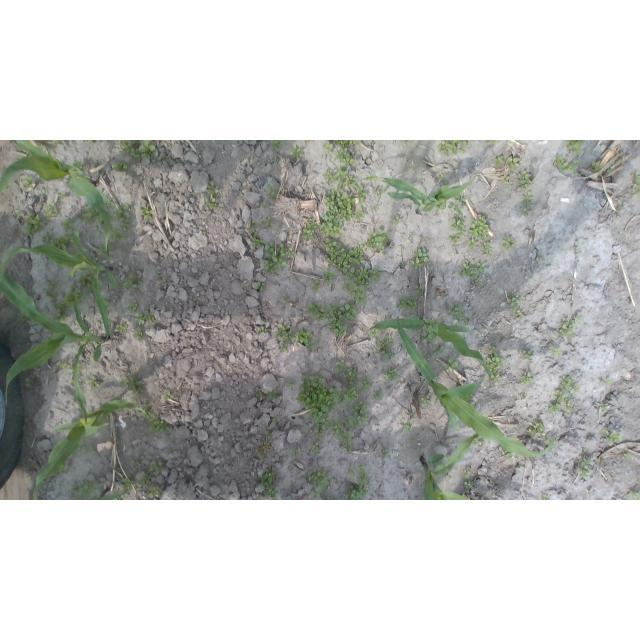Maize: (396, 316, 557, 458), (1, 273, 110, 430), (0, 230, 116, 362), (0, 141, 114, 252), (34, 400, 150, 501), (368, 315, 492, 386), (351, 175, 478, 214), (420, 434, 479, 500), (90, 488, 121, 501)
Weeds: (294, 372, 340, 420), (307, 300, 358, 337), (320, 236, 364, 277), (320, 188, 356, 237), (324, 166, 368, 204), (262, 239, 297, 273), (344, 464, 371, 500), (115, 140, 156, 162), (41, 232, 81, 254), (446, 196, 466, 236), (484, 345, 504, 383), (331, 421, 356, 451), (458, 259, 486, 285), (343, 276, 368, 305), (366, 228, 391, 255), (557, 314, 582, 340), (258, 468, 278, 500), (341, 368, 359, 403), (63, 284, 88, 309), (353, 267, 382, 288), (72, 479, 101, 500), (83, 200, 104, 229), (345, 401, 368, 427), (307, 468, 334, 488), (552, 155, 580, 174), (468, 216, 489, 241), (438, 140, 469, 156), (23, 214, 45, 236), (408, 248, 429, 271), (296, 329, 317, 352), (275, 323, 292, 351), (375, 335, 393, 361), (448, 303, 469, 325), (113, 204, 132, 228), (50, 302, 71, 323), (312, 418, 332, 440), (249, 219, 264, 248), (301, 220, 320, 241), (76, 272, 95, 293), (335, 149, 355, 168), (560, 374, 581, 392), (43, 279, 61, 299), (577, 456, 593, 478), (602, 429, 622, 446), (395, 297, 417, 312), (527, 421, 545, 439), (516, 171, 532, 191), (566, 141, 587, 156), (147, 419, 169, 433), (128, 377, 145, 395), (42, 202, 58, 221), (138, 404, 154, 421), (122, 273, 139, 289), (148, 459, 166, 474), (630, 171, 640, 198), (136, 312, 156, 325), (500, 236, 517, 251), (357, 377, 373, 392), (112, 159, 132, 171), (461, 394, 476, 409), (551, 389, 566, 404), (111, 227, 126, 242), (506, 292, 520, 308), (336, 140, 364, 148), (99, 242, 113, 258), (71, 157, 87, 171), (520, 191, 534, 206), (139, 473, 153, 488), (147, 485, 162, 499), (122, 477, 136, 492), (140, 206, 154, 221), (203, 195, 217, 210), (56, 360, 73, 372), (519, 371, 533, 385), (431, 346, 446, 359), (205, 181, 220, 194), (563, 400, 576, 414), (507, 156, 521, 169), (21, 175, 34, 189), (445, 358, 460, 370), (383, 367, 398, 379), (322, 270, 337, 282), (16, 312, 31, 324), (63, 219, 78, 231), (266, 183, 278, 198), (421, 331, 434, 344), (374, 188, 387, 201), (87, 377, 100, 390), (547, 402, 561, 414), (480, 241, 492, 255), (368, 328, 381, 340), (323, 140, 334, 154), (78, 442, 93, 452), (136, 324, 145, 340), (266, 141, 282, 150), (591, 161, 603, 173), (354, 209, 366, 221), (520, 350, 533, 361), (448, 234, 461, 245), (262, 216, 273, 229), (309, 443, 320, 456), (128, 300, 139, 313), (543, 437, 557, 447), (111, 492, 126, 501), (421, 394, 432, 406), (312, 488, 323, 500), (499, 175, 511, 186), (290, 146, 301, 157), (310, 280, 320, 292), (405, 420, 414, 433), (266, 392, 279, 401), (473, 435, 484, 445), (551, 347, 562, 357), (495, 155, 505, 166), (103, 196, 113, 207), (628, 492, 640, 501), (466, 239, 478, 248), (372, 391, 384, 400), (435, 202, 448, 210), (255, 281, 265, 291), (415, 285, 424, 296), (463, 481, 474, 490), (58, 464, 69, 473), (116, 324, 127, 333), (264, 427, 273, 437), (25, 379, 34, 389), (505, 451, 516, 459), (522, 208, 531, 217), (392, 216, 401, 225), (336, 360, 345, 369), (602, 403, 610, 413), (287, 380, 295, 389), (257, 326, 267, 333), (601, 379, 611, 386), (484, 140, 501, 144), (514, 309, 522, 317), (290, 449, 298, 457), (15, 208, 23, 216), (256, 391, 265, 398), (164, 392, 173, 399), (438, 173, 445, 181), (102, 294, 109, 302), (59, 191, 66, 199), (624, 453, 633, 459), (272, 418, 281, 424), (464, 472, 471, 479), (155, 275, 162, 282), (381, 450, 388, 457), (372, 205, 379, 212), (539, 254, 547, 260), (52, 140, 59, 146), (606, 168, 613, 174), (161, 154, 167, 160), (442, 184, 449, 189), (281, 296, 289, 300), (87, 140, 94, 144), (401, 140, 407, 144), (483, 392, 489, 396), (542, 494, 546, 499), (455, 174, 459, 179), (408, 233, 413, 237)
